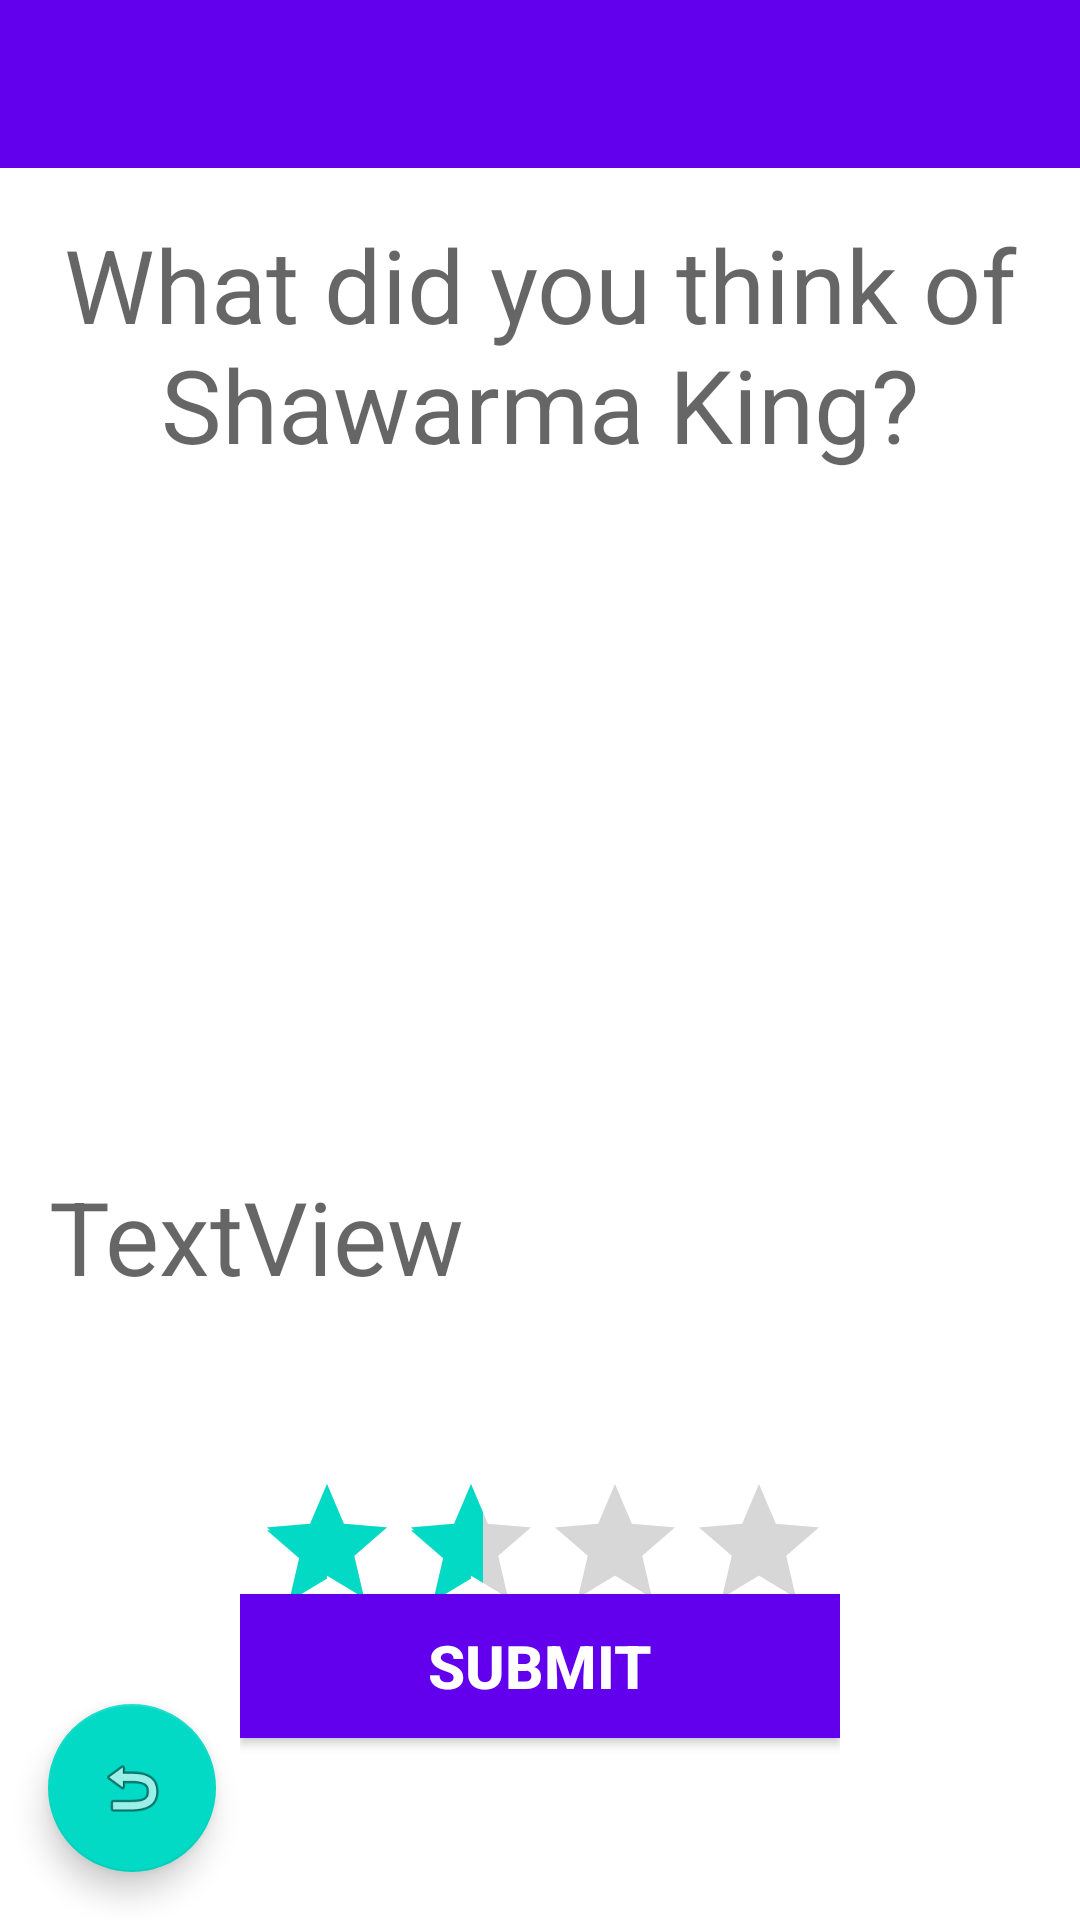

Icon click points for this 1080w x 1920h phone screenshot, format (x,y):
revert: (132,1788)
